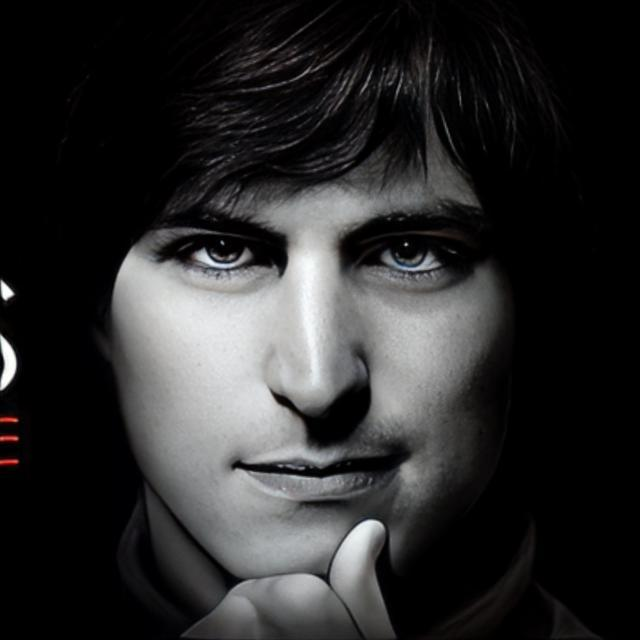Contempt: (113, 70, 514, 588)
